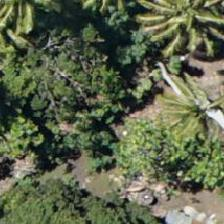coconut_tree: (146, 0, 223, 67)
